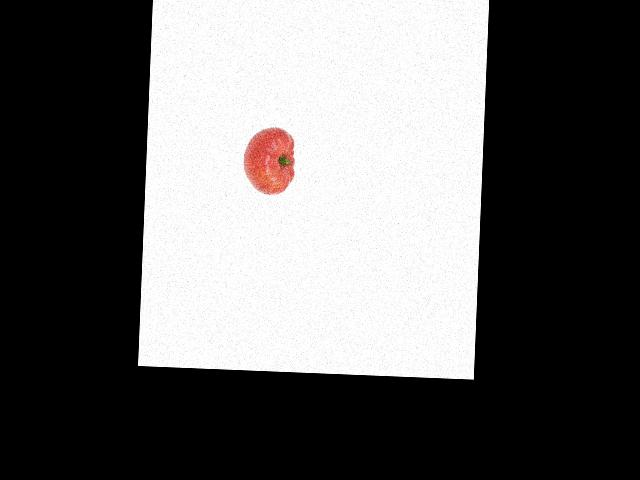tomato: (242, 126, 294, 196)
